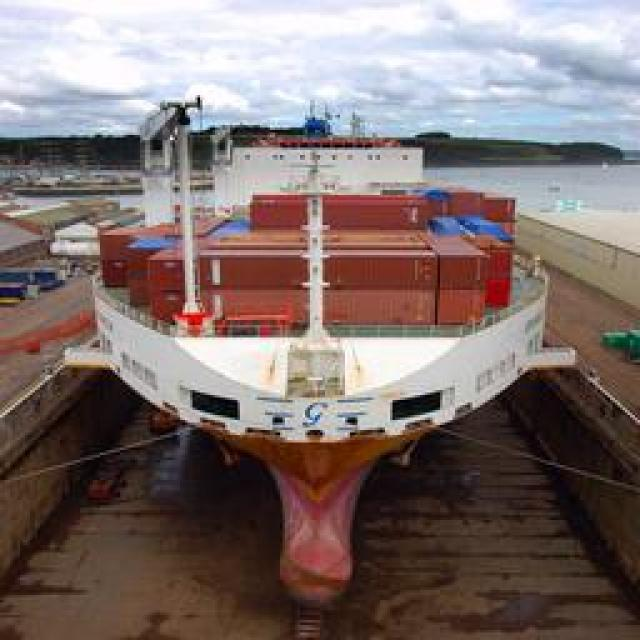CIV_Ship: (75, 115, 570, 505)
